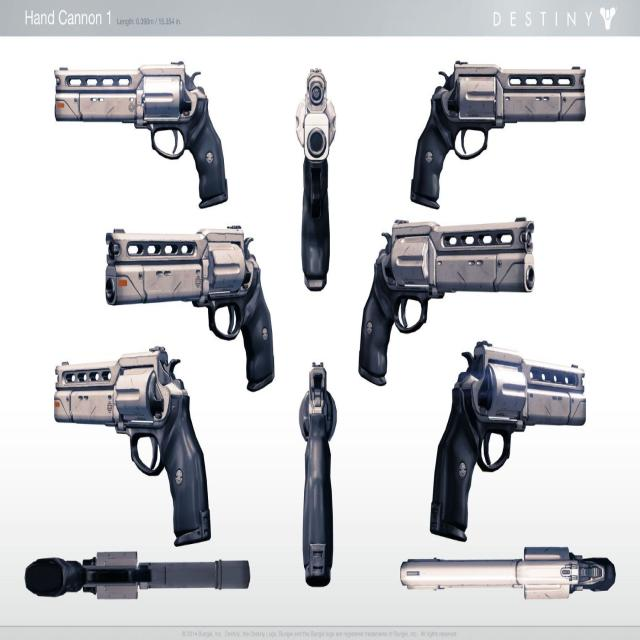HandGun: (54, 346, 211, 548), (430, 341, 587, 543), (358, 218, 535, 387), (106, 225, 276, 390), (410, 61, 587, 210), (55, 61, 228, 209), (400, 548, 617, 602), (24, 550, 251, 601), (295, 68, 337, 293), (298, 361, 338, 590)
